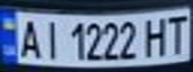1: (63, 18, 87, 61)
2: (81, 18, 106, 62), (118, 17, 142, 62), (103, 18, 124, 62)
A: (15, 16, 45, 60)
H: (139, 14, 172, 57)
I: (36, 17, 63, 60)
T: (163, 11, 193, 55)
